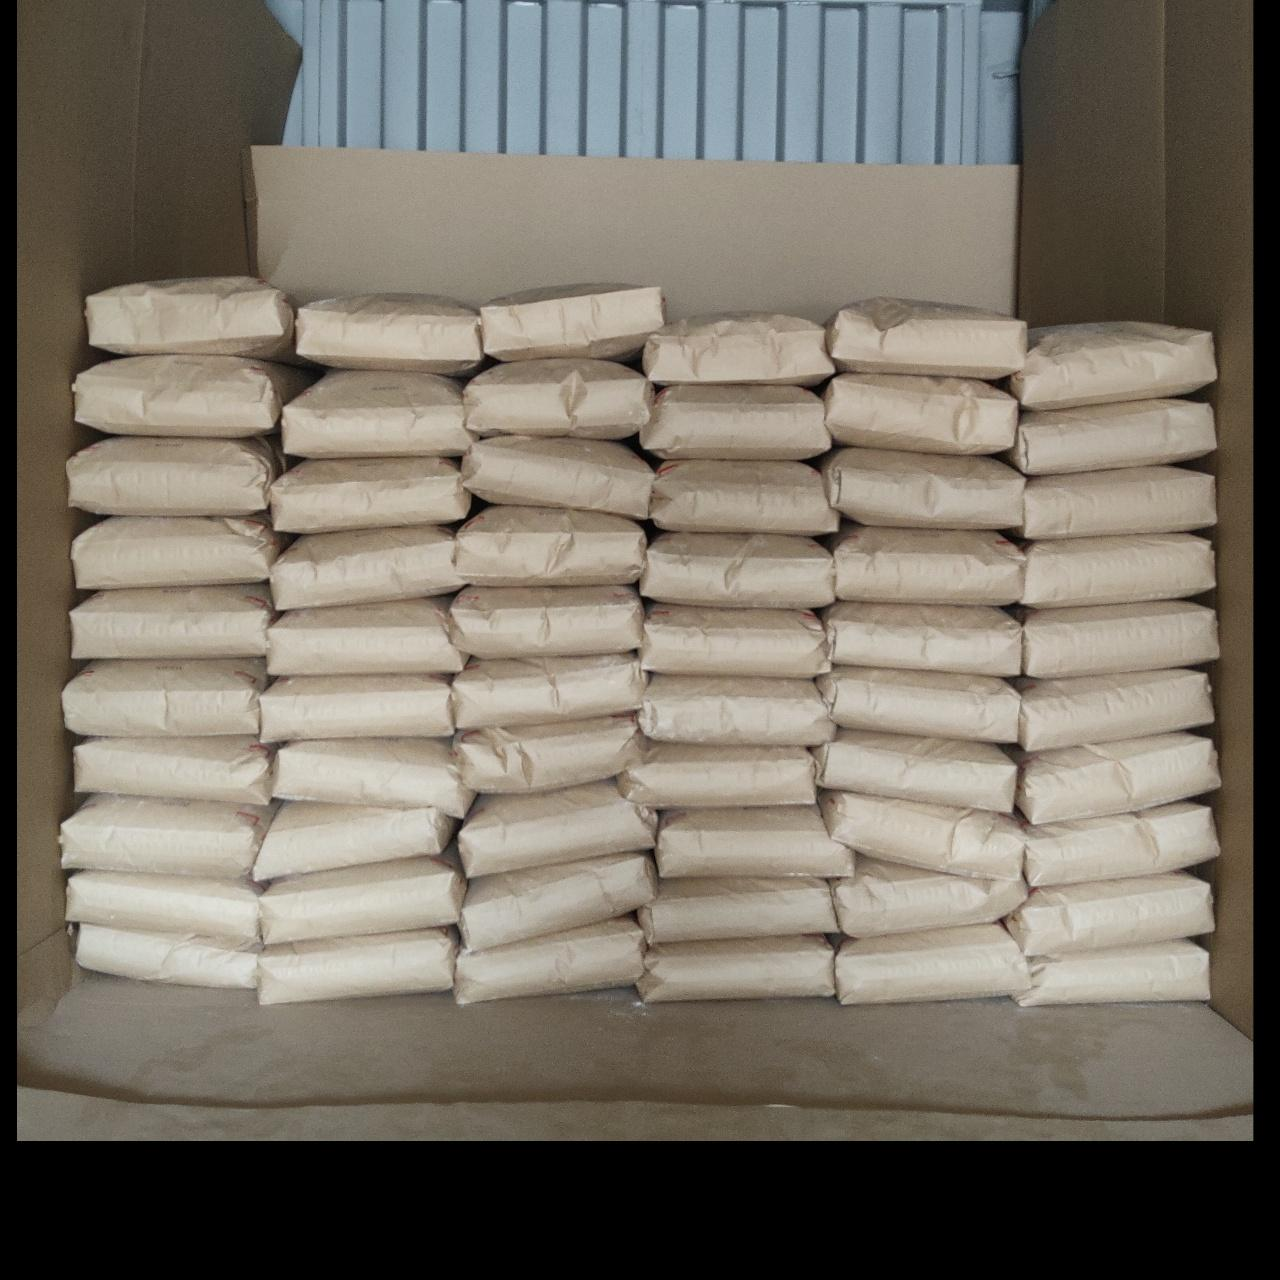sack: (76, 356, 309, 436), (459, 782, 654, 876), (1017, 734, 1218, 822), (462, 855, 654, 946), (263, 856, 462, 942), (62, 796, 270, 878), (1010, 324, 1214, 406), (822, 792, 1022, 876), (88, 278, 294, 358), (1008, 874, 1212, 954), (1024, 802, 1216, 886), (830, 298, 1024, 380), (821, 448, 1022, 526), (456, 918, 644, 1002), (816, 731, 1014, 810), (1017, 670, 1212, 750), (70, 438, 280, 512), (284, 372, 472, 454), (74, 516, 286, 588), (464, 436, 652, 518), (830, 524, 1022, 604), (824, 374, 1014, 454), (272, 526, 462, 606), (256, 802, 454, 878), (1008, 400, 1214, 472), (838, 924, 1028, 1002), (64, 660, 266, 734), (270, 598, 464, 674), (272, 740, 470, 813), (467, 360, 652, 438), (72, 586, 274, 658), (835, 858, 1024, 934), (270, 459, 468, 532), (1022, 602, 1216, 676), (821, 668, 1017, 740), (260, 930, 454, 1002), (454, 716, 644, 790), (298, 298, 481, 374), (458, 508, 644, 583), (826, 602, 1020, 674), (1022, 535, 1214, 606), (68, 872, 260, 944), (1020, 468, 1214, 538), (454, 654, 644, 726), (642, 535, 832, 606), (642, 386, 828, 458), (658, 806, 852, 876), (652, 462, 836, 535), (642, 604, 826, 676), (452, 586, 642, 654), (76, 738, 270, 804), (640, 676, 832, 742), (481, 288, 662, 358), (620, 742, 812, 806), (642, 878, 832, 942), (644, 316, 830, 382), (263, 676, 452, 740), (1016, 942, 1206, 1005), (640, 938, 835, 998), (79, 926, 258, 988)
